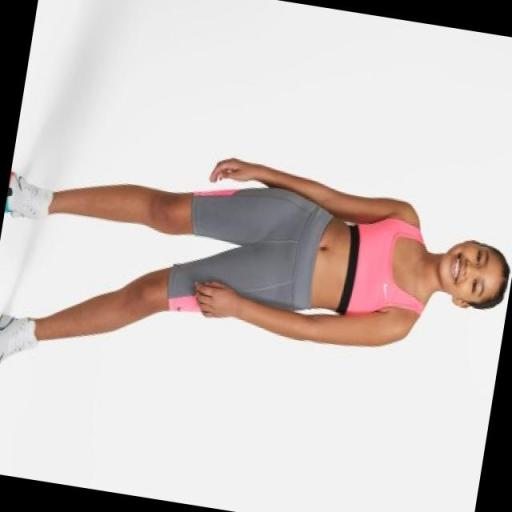Nike: (379, 278, 392, 300)
